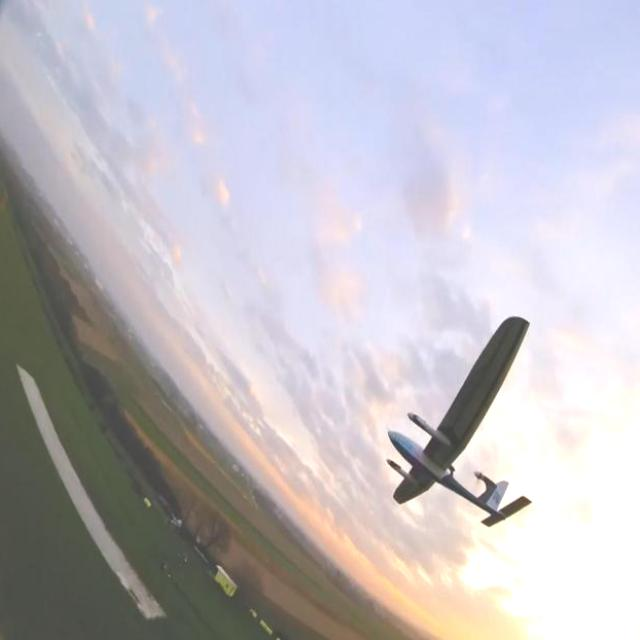plane: (384, 314, 533, 528)
